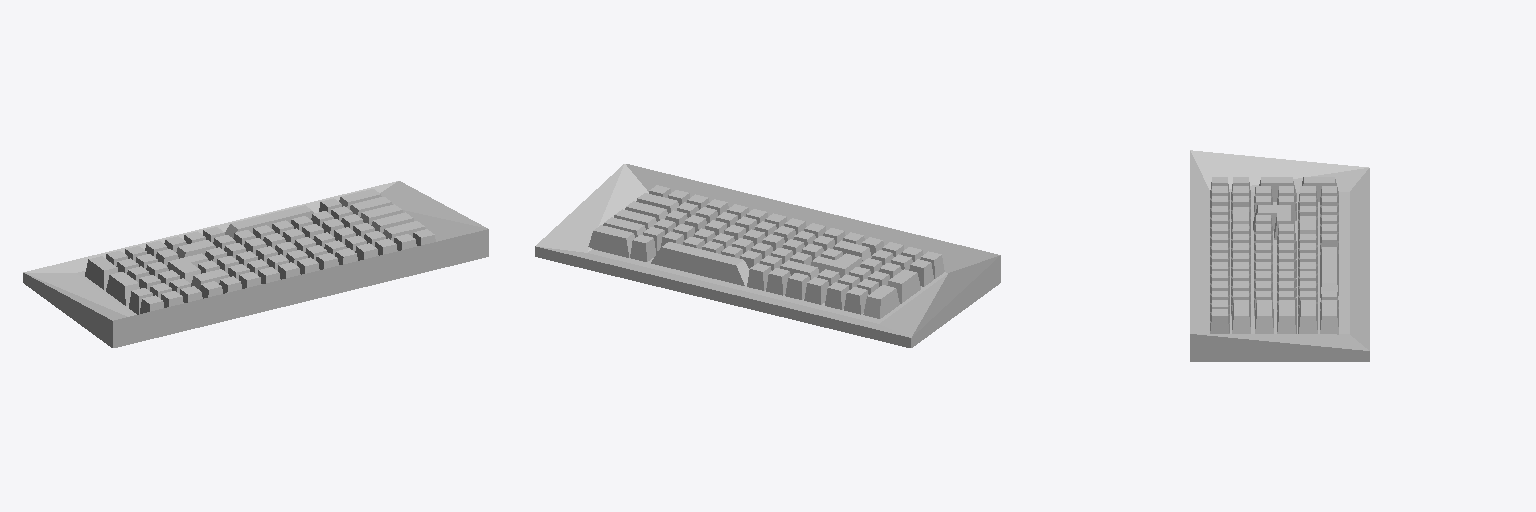
The model's file is keyboard.obj.
The picture shows the model from 3 angles: view 1: azimuth 30°, elevation 25°; view 2: azimuth 150°, elevation 25°; view 3: azimuth 270°, elevation 25°; orthographic projection.
Parts seen in each view (by area): view 1: pCube38; view 2: pCube38; view 3: pCube38.
Boxes of the visible parts, <box> form: pCube38: <box>23,181,488,347</box>; pCube38: <box>535,164,1000,347</box>; pCube38: <box>1190,150,1369,361</box>.
Bounding box in the file's own units: 11.05 × 0.7821 × 4.56.